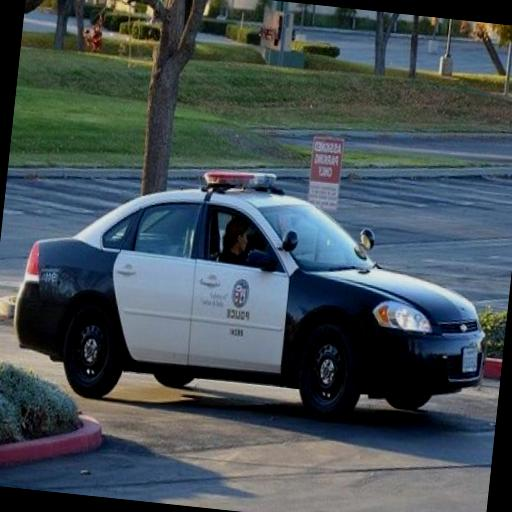Ambulance: (4, 146, 504, 446)
